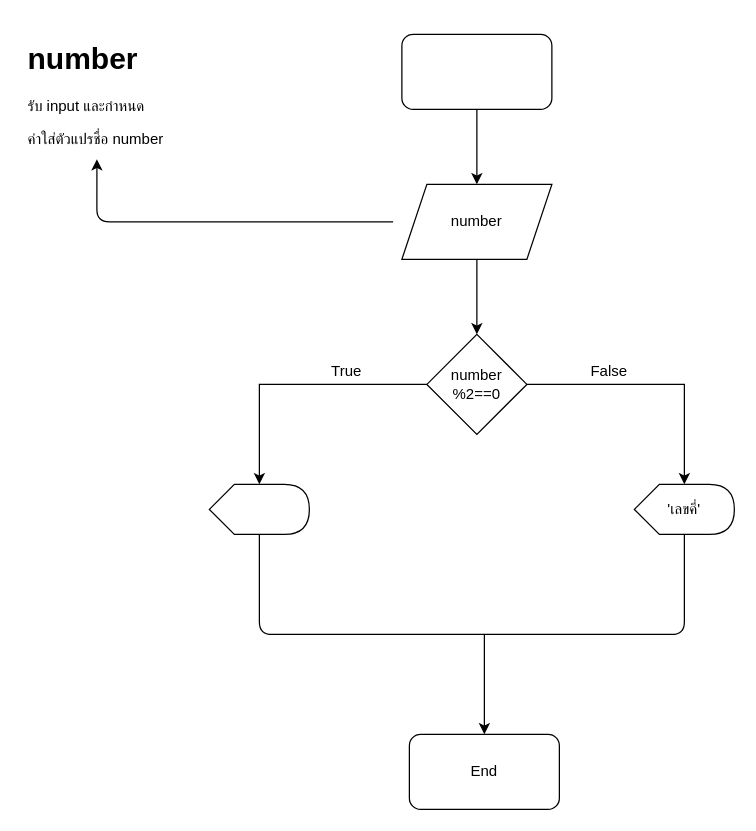
The diagram is 756 pixels wide and 831 high, and some of its shapes have lost their labels. The box of each missing label's shape, as (x1, y1, x2, y2) in pixels:
'เลขคู่': (208, 483, 309, 534)
Start: (401, 33, 552, 109)
